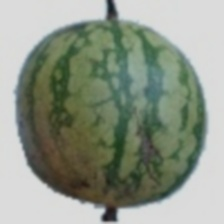watermelon: (11, 3, 204, 187)
